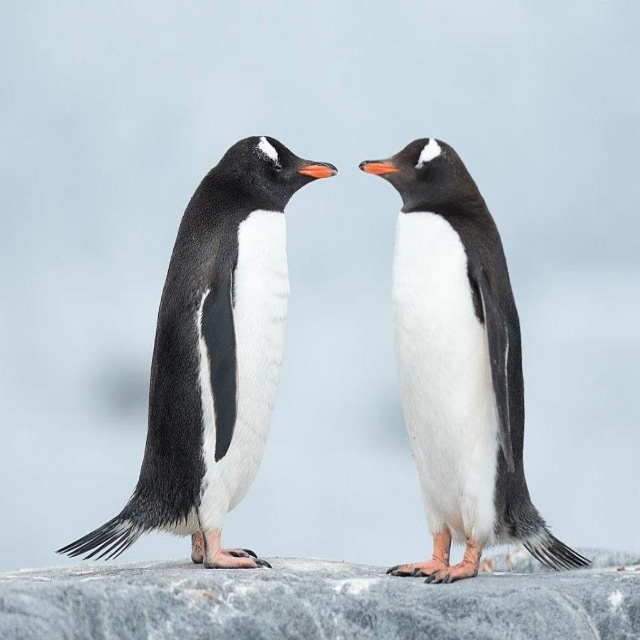Penguin: (54, 131, 334, 573), (357, 137, 592, 585)
